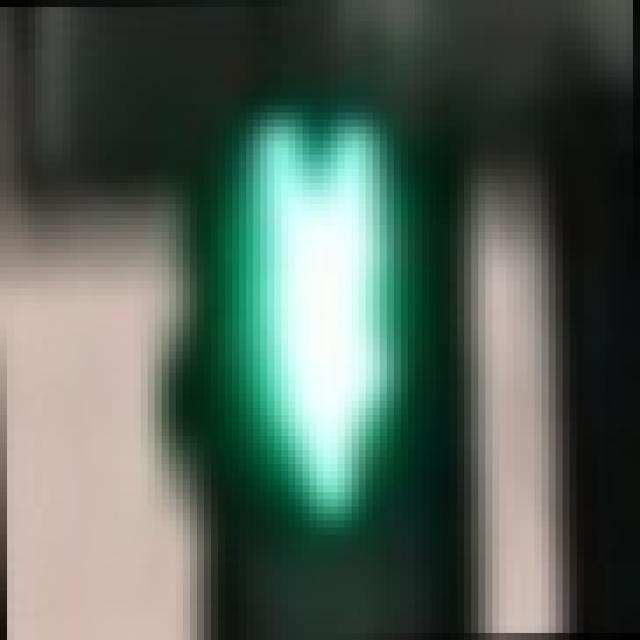green_light: (183, 92, 436, 520)
